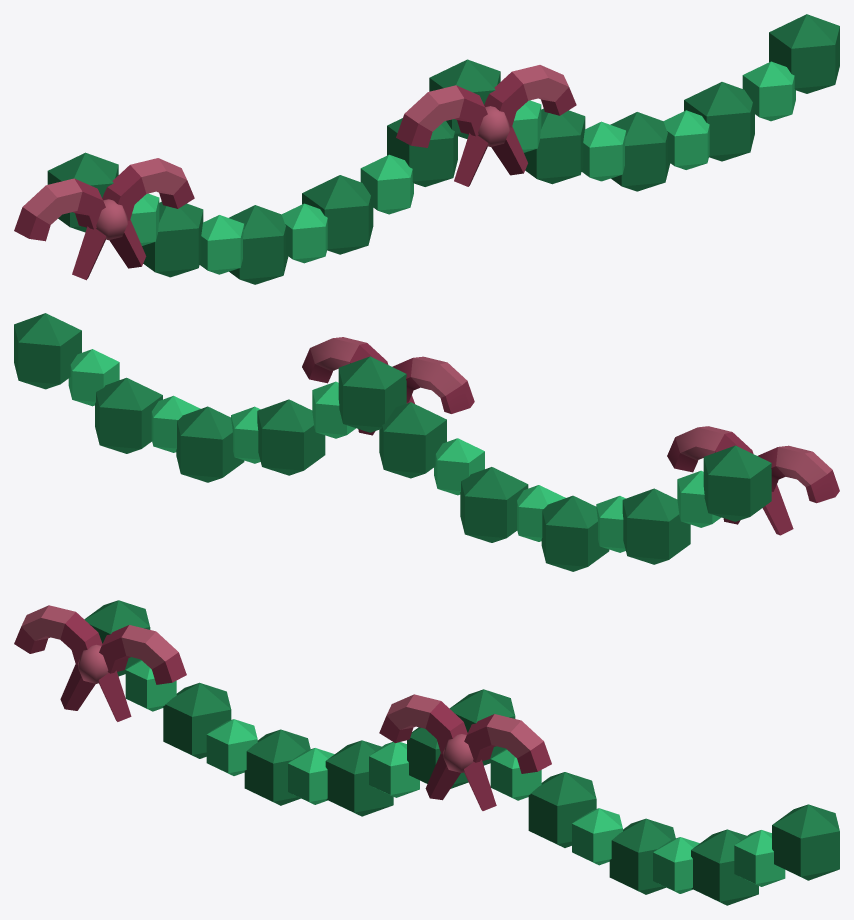
File: Xmas_Garland_8.fbx
The picture shows the model from 3 angles, top to bottom: view 1: azimuth 30°, elevation 25°; view 2: azimuth 150°, elevation 25°; view 3: azimuth 330°, elevation 25°; orthographic projection. The views are drawn at different scales.
Parts seen in each view (by area): view 1: Xmas_Garland_8; view 2: Xmas_Garland_8; view 3: Xmas_Garland_8.
Part boxes in pixels (x1=…): Xmas_Garland_8: x1=14, y1=14, x2=839, y2=284; Xmas_Garland_8: x1=14, y1=313, x2=839, y2=571; Xmas_Garland_8: x1=14, y1=600, x2=839, y2=905.
Bounding box in the file's own units: 8.82 × 1.74 × 0.9227.
Materials: 1 (1 with a texture image).
